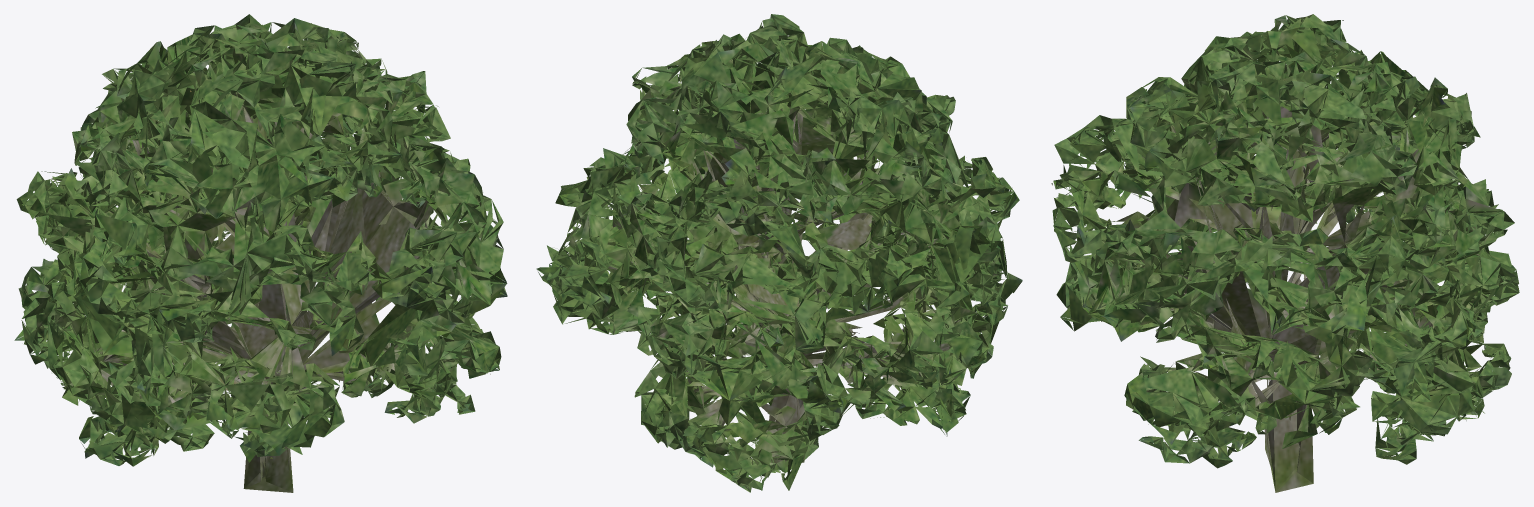
The model's file is tree_oak.obj.
The picture shows the model from 3 angles, left to right: view 1: azimuth 30°, elevation 25°; view 2: azimuth 150°, elevation 25°; view 3: azimuth 270°, elevation 25°; orthographic projection. The views are drawn at different scales.
Bounding box in the file's own units: 11.84 × 12 × 11.45.
1 material, 1 textured.
